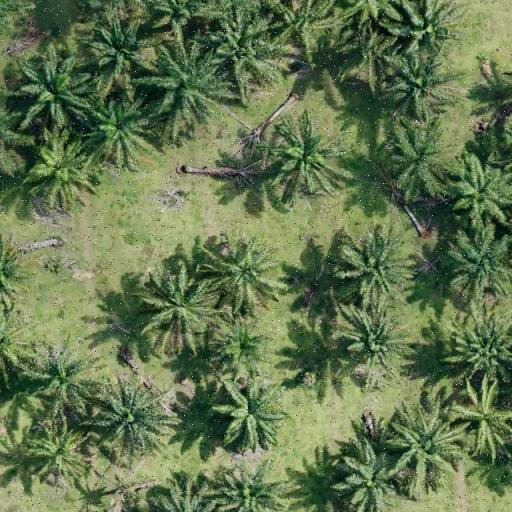Ganoderma: (275, 130, 338, 184), (34, 145, 88, 194), (343, 319, 397, 366), (459, 391, 508, 440), (34, 434, 84, 482)
